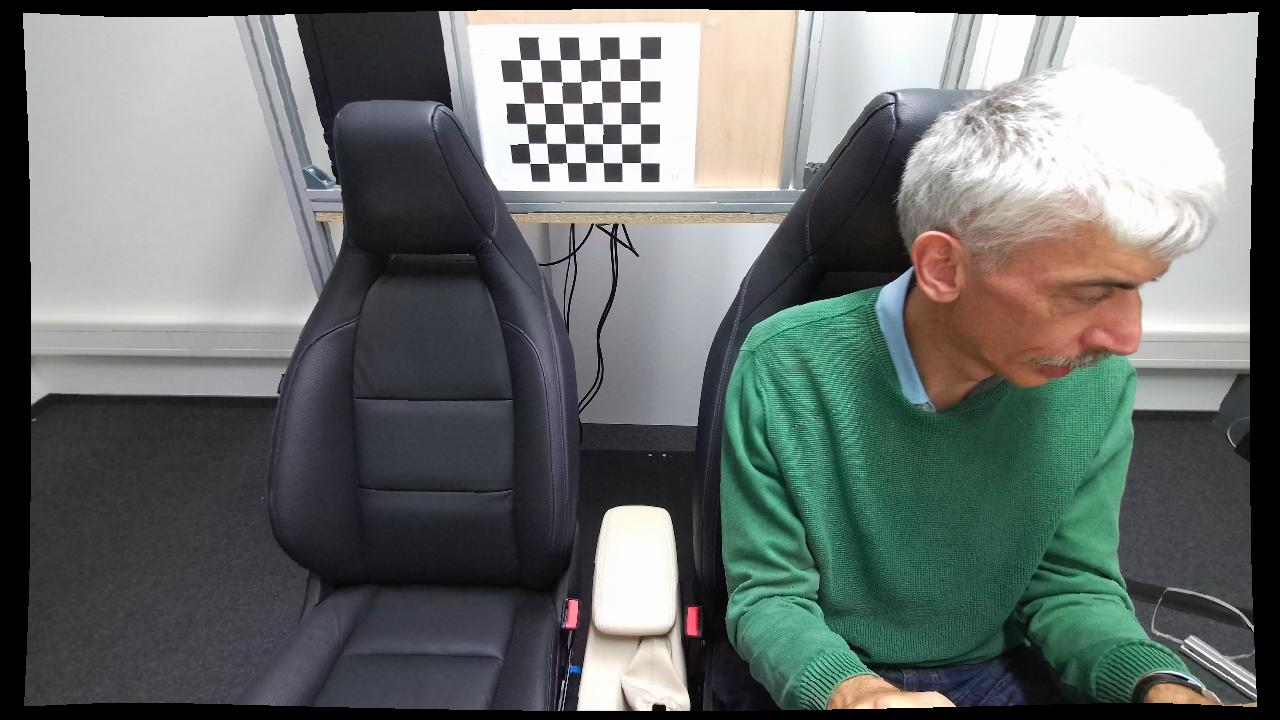Distracted: (723, 66, 1238, 720)
